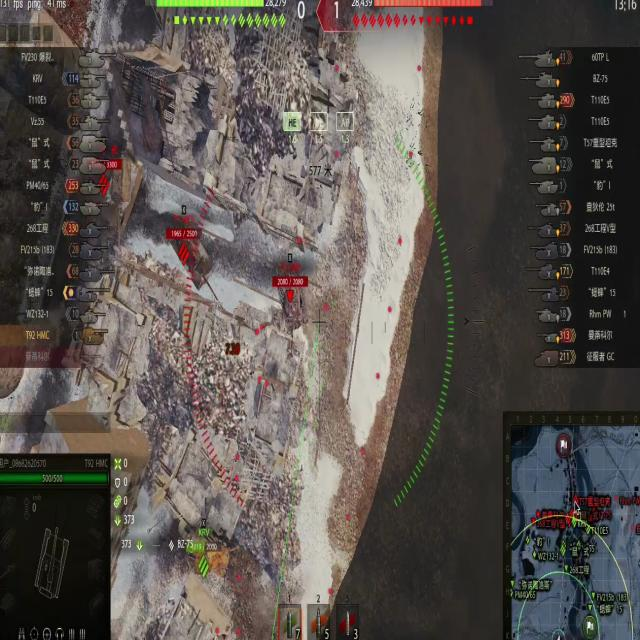tank: (158, 226, 219, 292), (269, 274, 310, 331)
